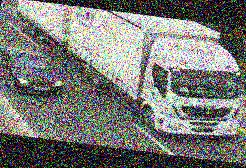truck: (4, 0, 246, 145)
